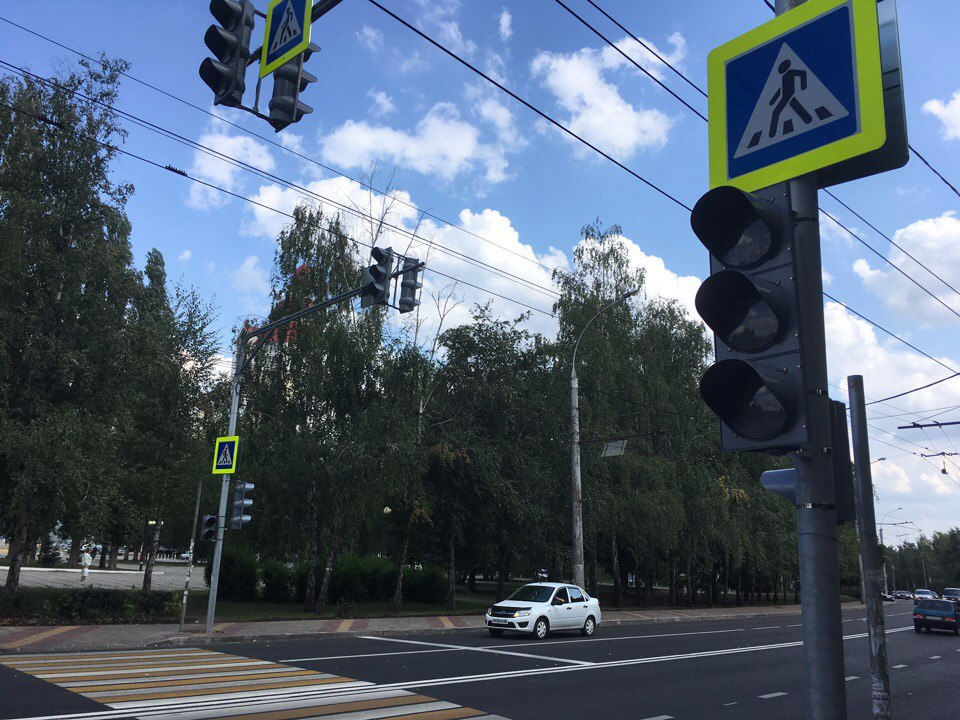tl: (692, 186, 820, 449), (209, 1, 258, 109), (263, 47, 320, 129)
